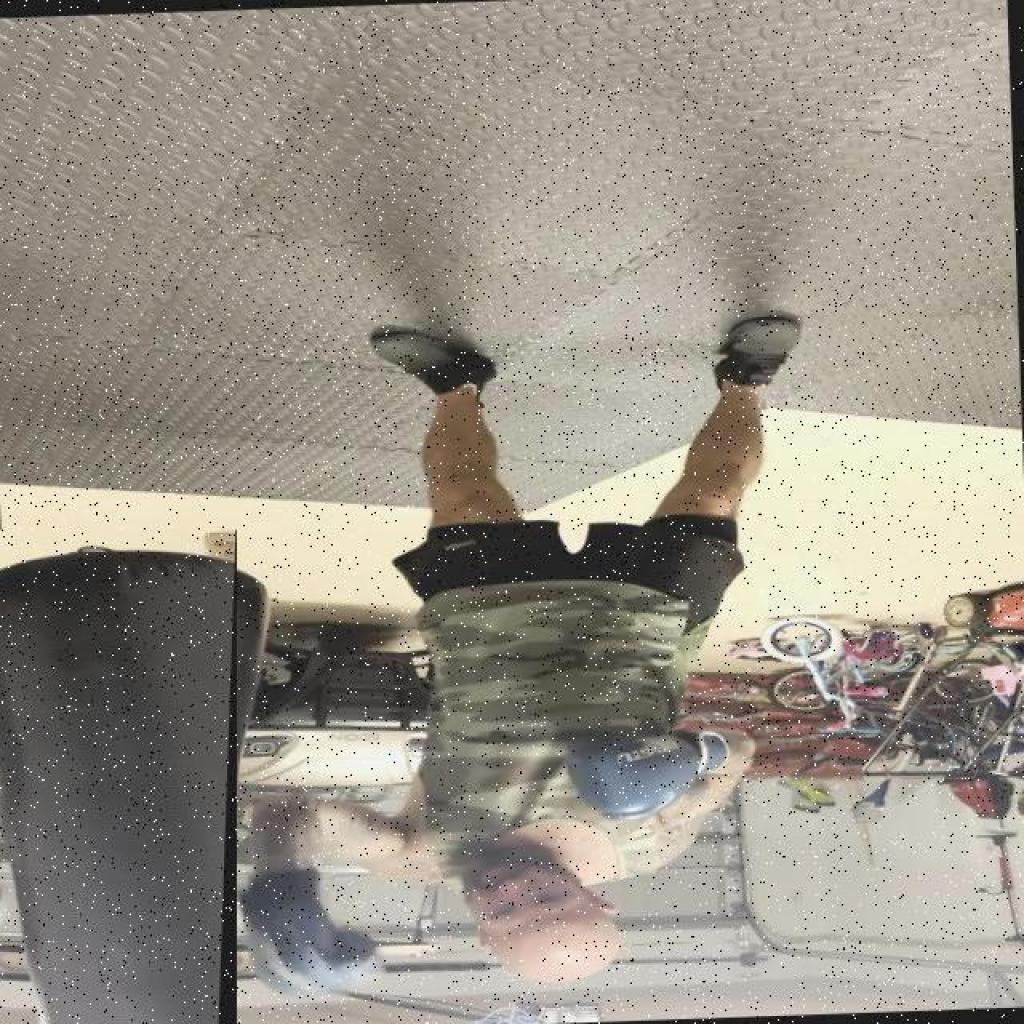bag: (0, 529, 237, 1024)
uppercut: (219, 704, 762, 1005)
